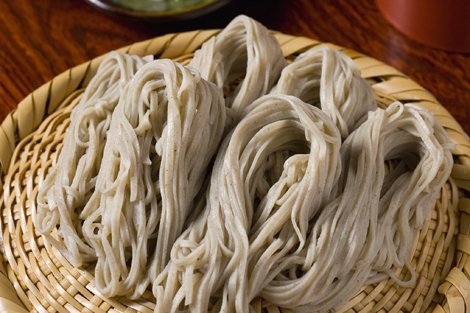Soba: (77, 19, 457, 313)
